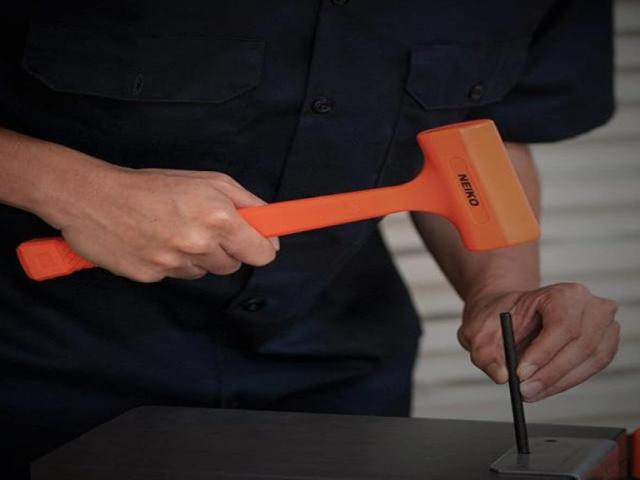hammer: (16, 115, 538, 283)
